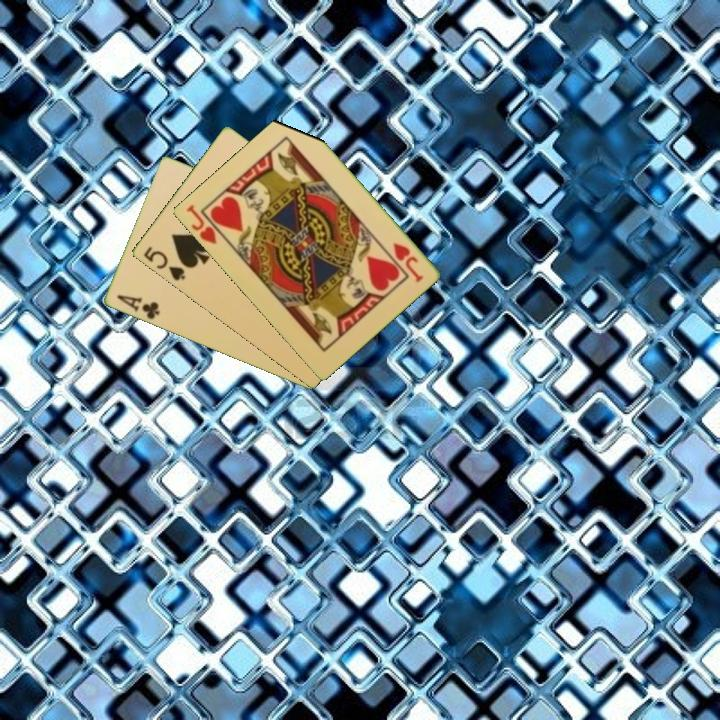5s: (139, 243, 188, 284)
Ac: (113, 291, 162, 322)
Jh: (182, 201, 219, 247), (389, 239, 426, 285)
